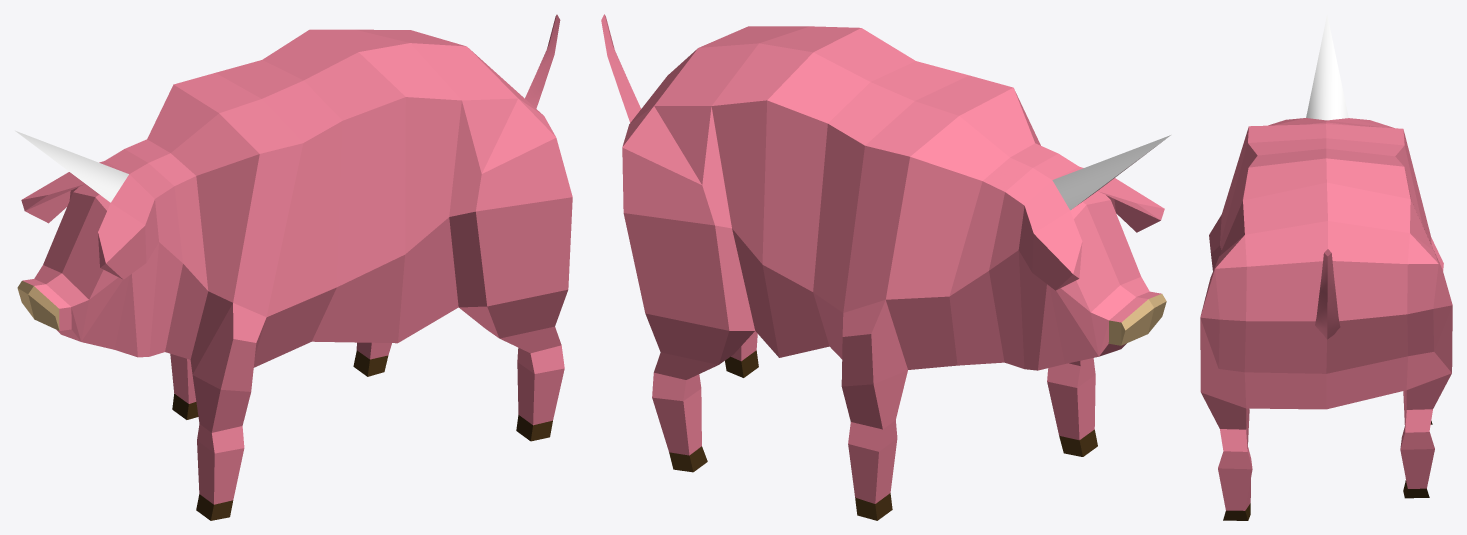
File: pigRunning4.obj
The picture shows the model from 3 angles, left to right: view 1: azimuth 30°, elevation 25°; view 2: azimuth 150°, elevation 25°; view 3: azimuth 270°, elevation 25°; orthographic projection. The views are drawn at different scales.
Parts seen in each view (by area): view 1: Pig_Cylinder.002_Pig_Cylinder.003; view 2: Pig_Cylinder.002_Pig_Cylinder.003; view 3: Pig_Cylinder.002_Pig_Cylinder.003.
Boxes of the visible parts, box(x1,y1,x2,y2) form: Pig_Cylinder.002_Pig_Cylinder.003: box(15, 14, 572, 520); Pig_Cylinder.002_Pig_Cylinder.003: box(601, 14, 1170, 520); Pig_Cylinder.002_Pig_Cylinder.003: box(1200, 14, 1452, 520).
Bounding box in the file's own units: 23.05 × 15.32 × 11.11.
